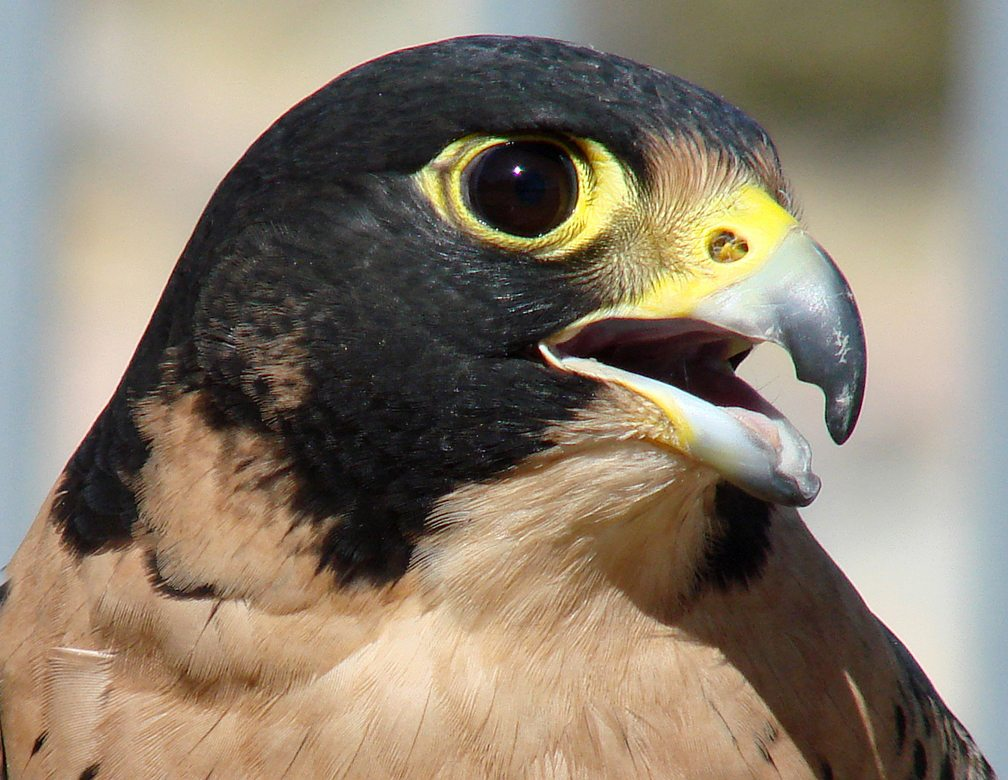Pengoyak Daging: (635, 193, 873, 535)
